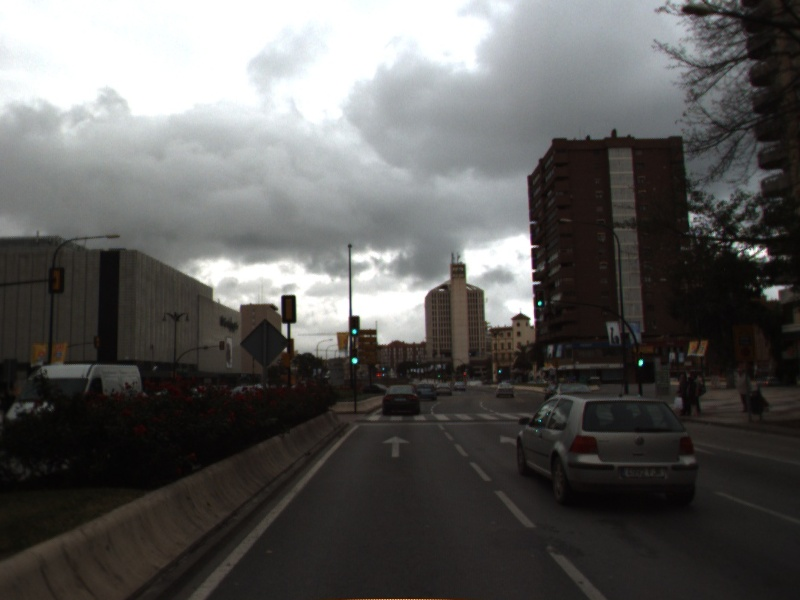STRAIGHT: (379, 433, 413, 460)
